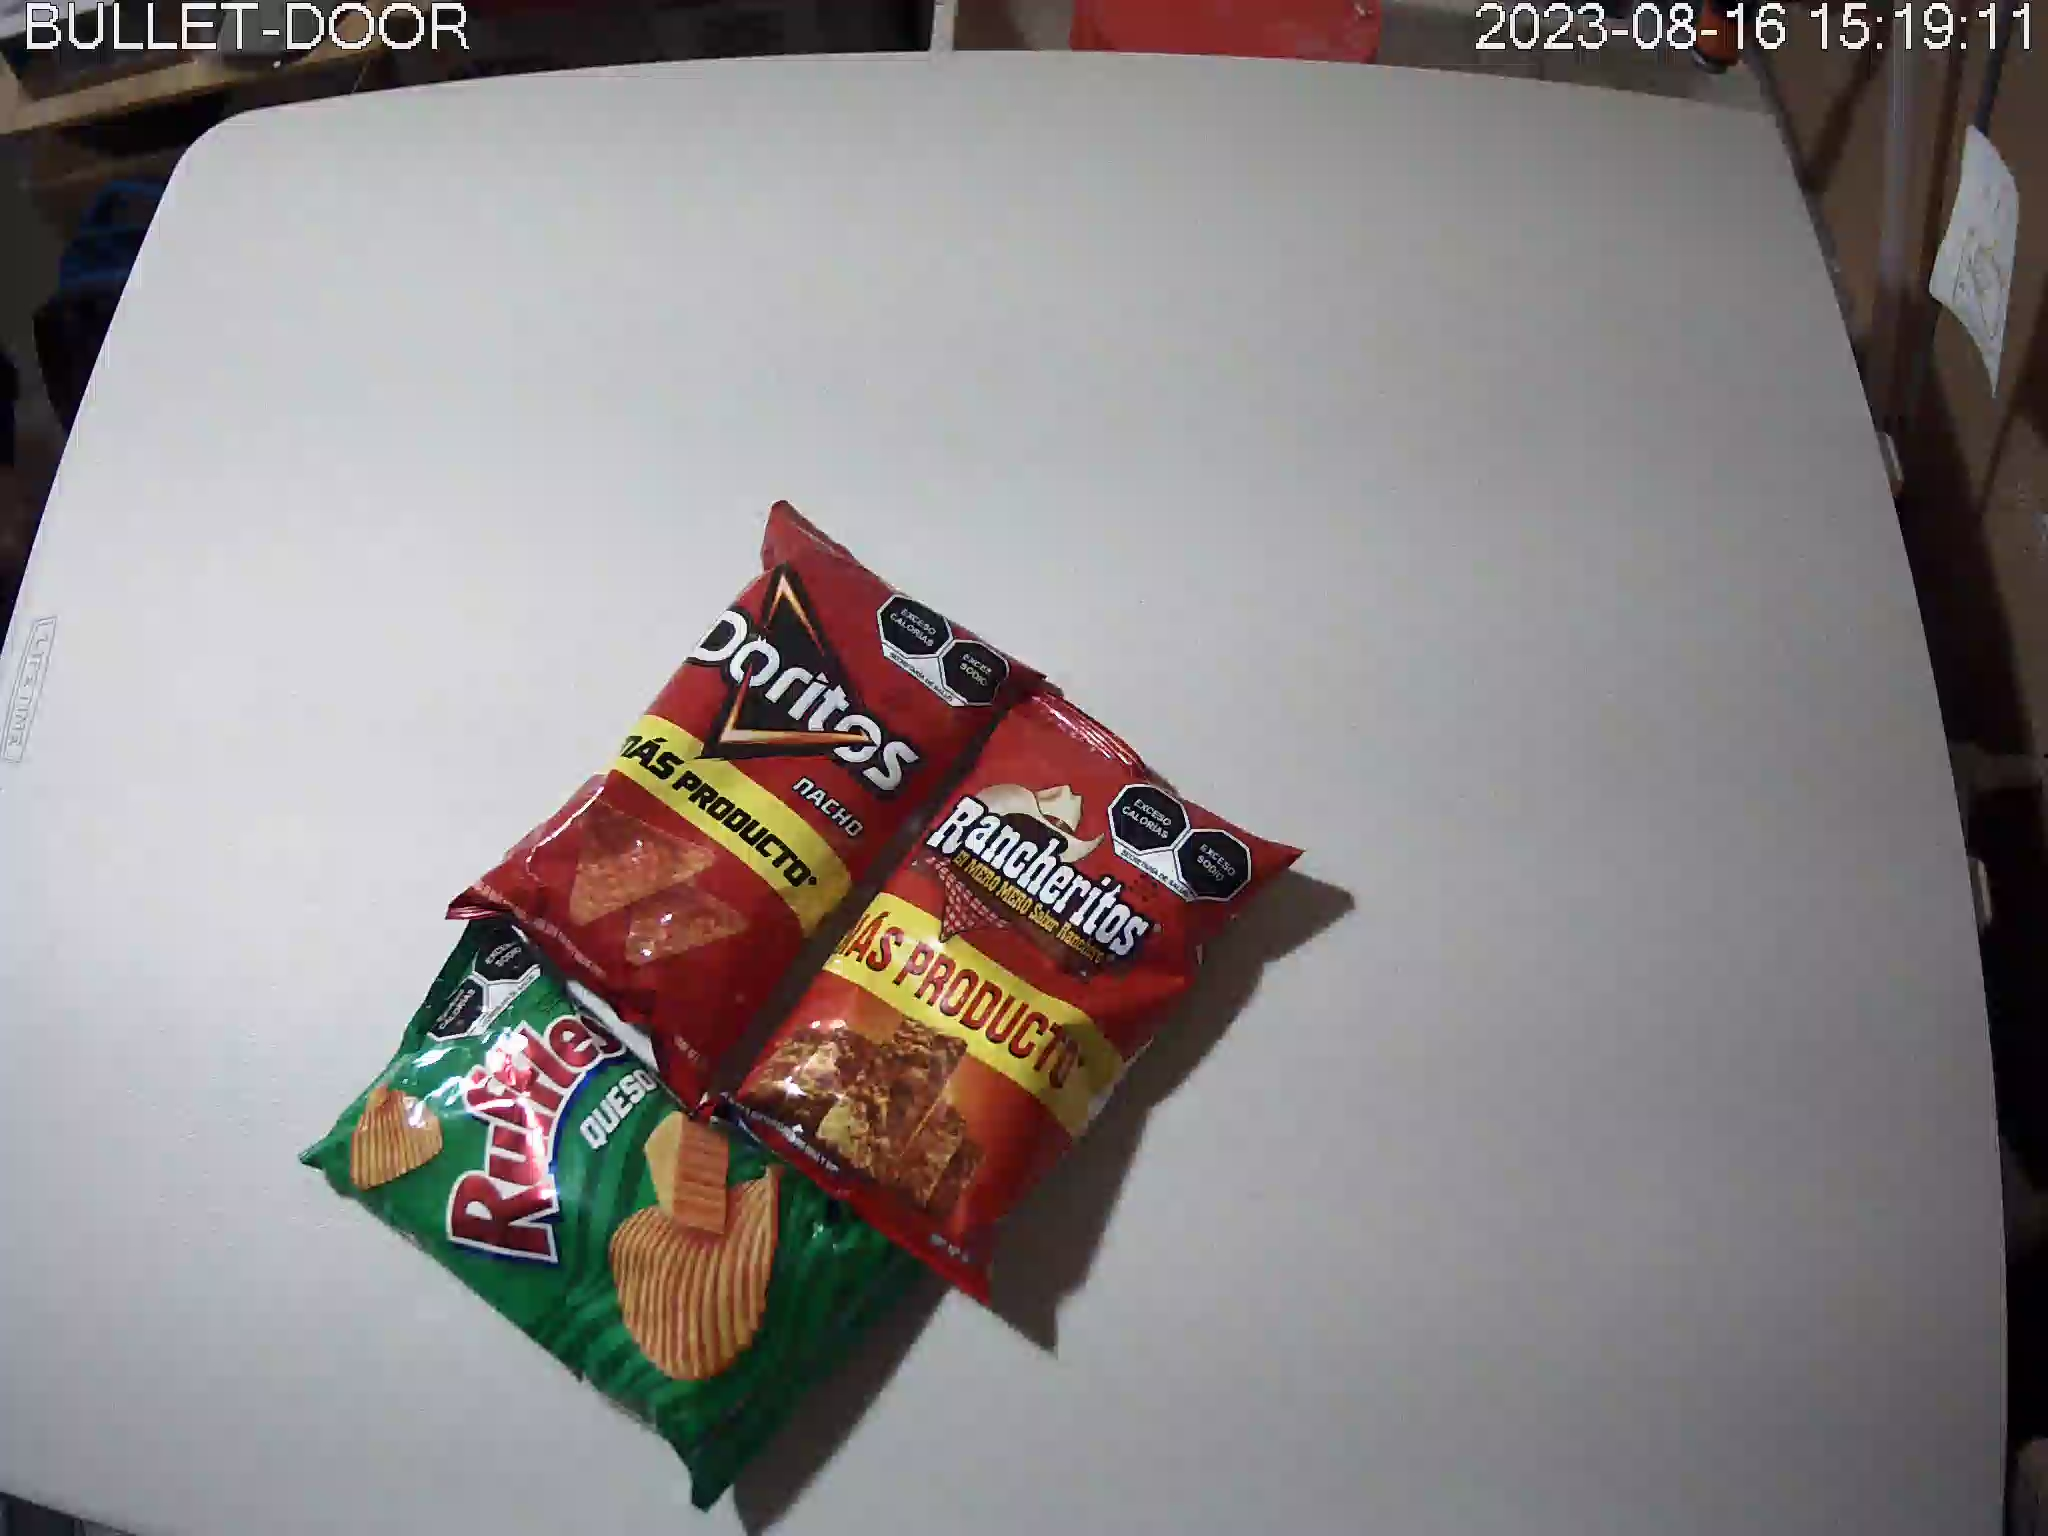DoritosN_61_F: (448, 499, 1051, 1123)
Rancheritos_58_F: (689, 674, 1309, 1309)
RufflesQ_48_F: (298, 894, 943, 1513)
